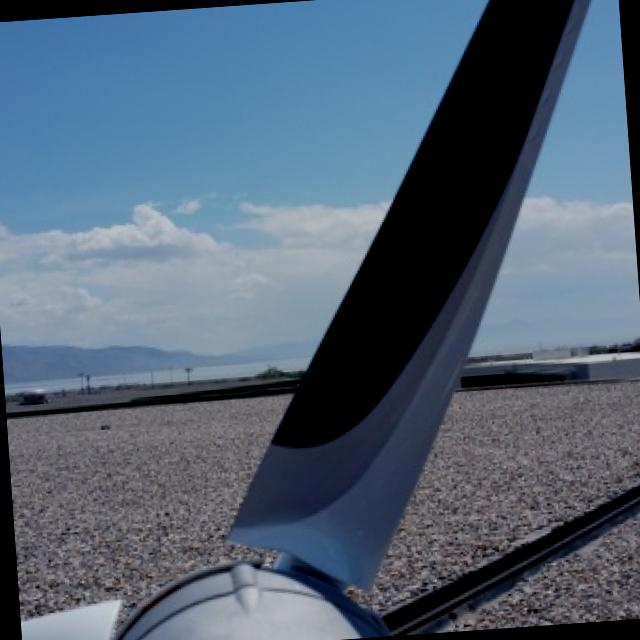healthy: (117, 0, 591, 640)
